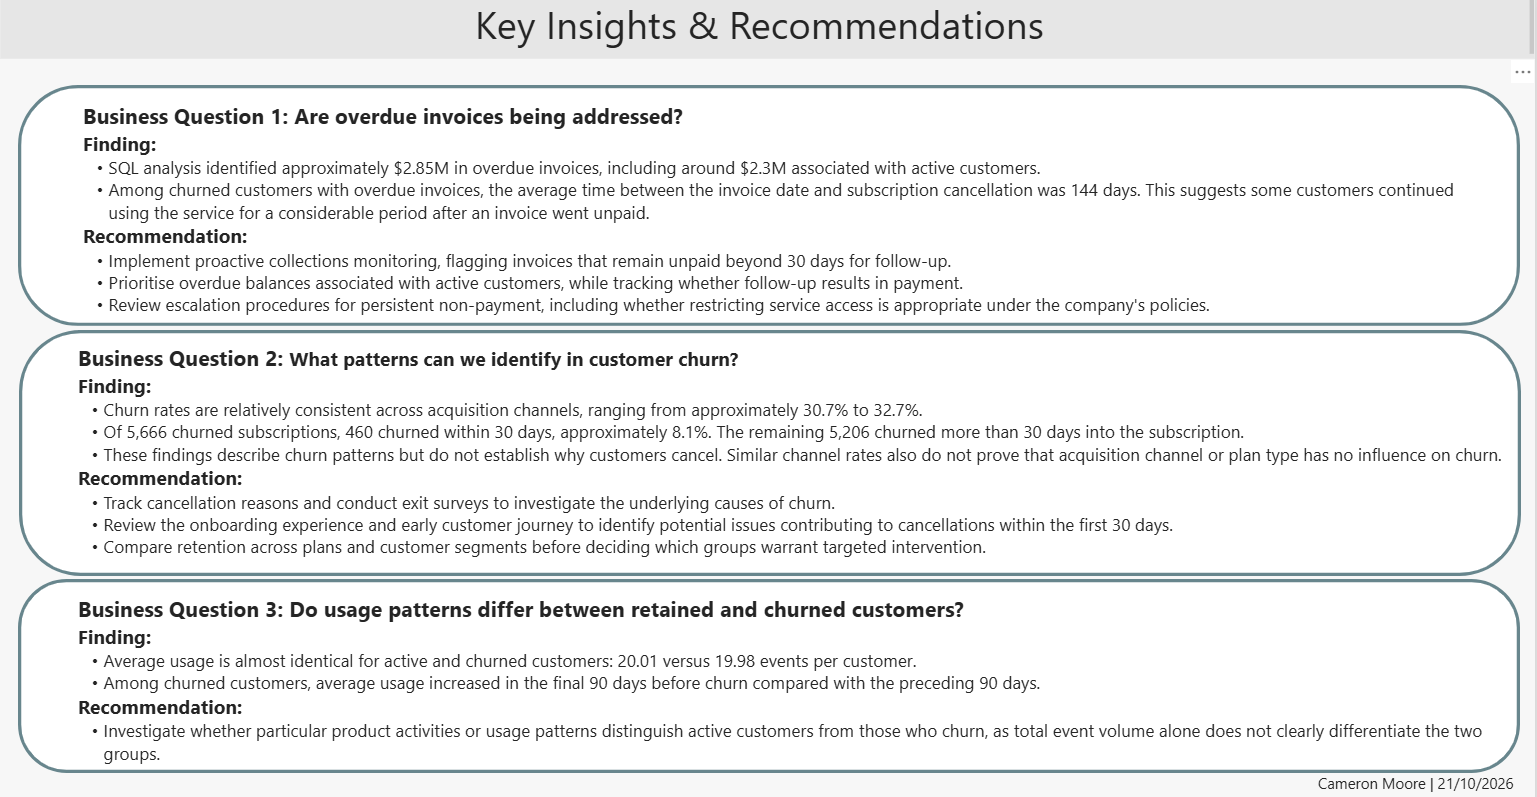

The page's visual inventory and layout, read from the dashboard file:
{"tool":"powerbi","page":{"name":"Insights & Recommendations","canvas":[1920,1080],"ordinal":4},"visuals":[{"type":"textbox","box":[0,0,1920,77.1],"z":0},{"type":"shape","box":[22.3,110.4,1877.5,301.2],"z":1000},{"type":"textbox","box":[1088.8,141.2,740,108.8],"z":2000},{"type":"textbox","box":[104.3,130,1757.1,352.9],"z":3000},{"type":"shape","box":[23.6,416.6,1877.5,307.5],"z":4000},{"type":"textbox","box":[97.1,432.9,1795.7,361.4],"z":5000},{"type":"shape","box":[22.5,727.5,1877.5,242.5],"z":6000},{"type":"textbox","box":[97.5,746.2,1775,275],"z":7000},{"type":"textbox","box":[1647.5,970,272.5,66.2],"z":7001}]}

Visuals, with their boxes on the page's 1920x1080 design canvas (x1, y1, x2, y2). These are canvas units, not pixel positions in the 1537x797 screenshot, which may show the page scaled, cropped or inside an application window:
textbox: detection(0, 0, 1920, 77)
shape: detection(22, 110, 1900, 412)
textbox: detection(1089, 141, 1829, 250)
textbox: detection(104, 130, 1861, 483)
shape: detection(24, 417, 1901, 724)
textbox: detection(97, 433, 1893, 794)
shape: detection(22, 728, 1900, 970)
textbox: detection(98, 746, 1872, 1021)
textbox: detection(1648, 970, 1920, 1036)
